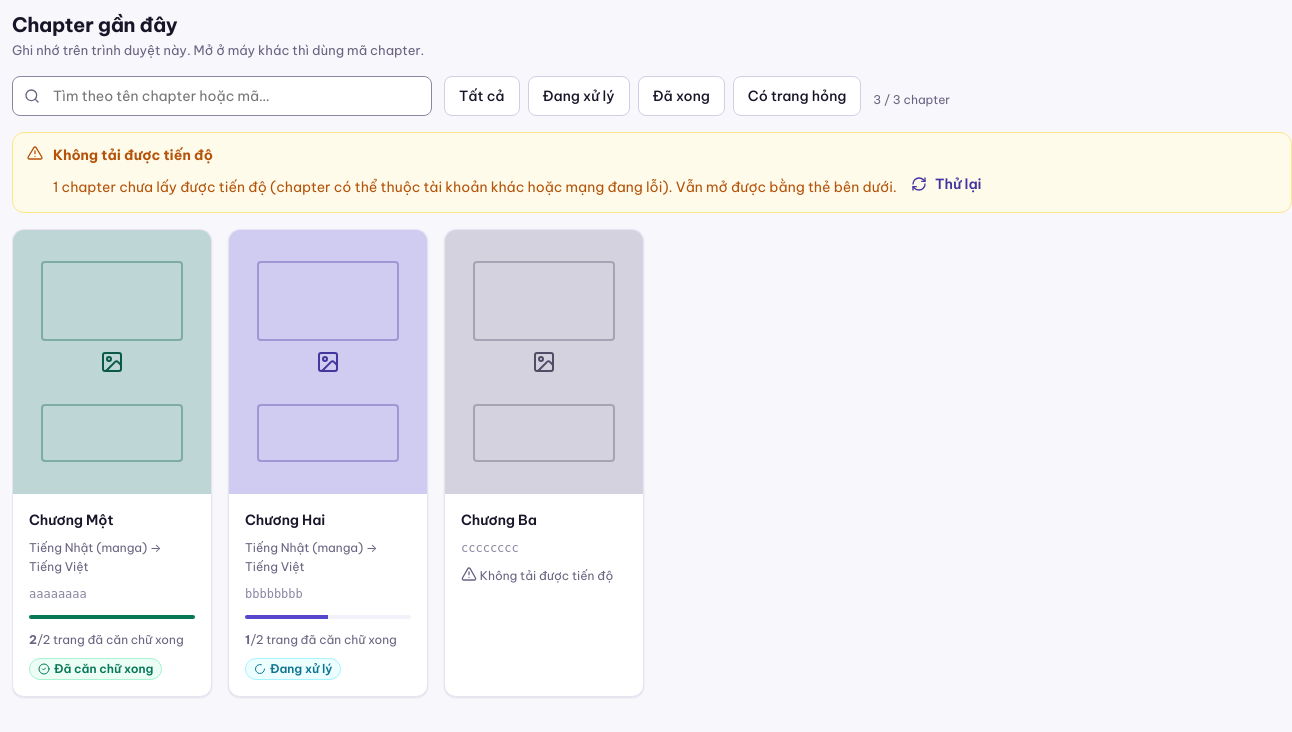
Scenario: ChapterRecentList — lưới thẻ › tìm theo tên/mã và chip lọc theo trạng thái; không khớp thì có trạng thái rỗng
This screenshot has width=1292, height=732.
Check: the text "Đã căn chữ xong" is shown, box [29,658,162,680]
Type "hai" into the search field named "Tìm chapter".
click(222, 96); type("hai")  # box [12,76,432,116]
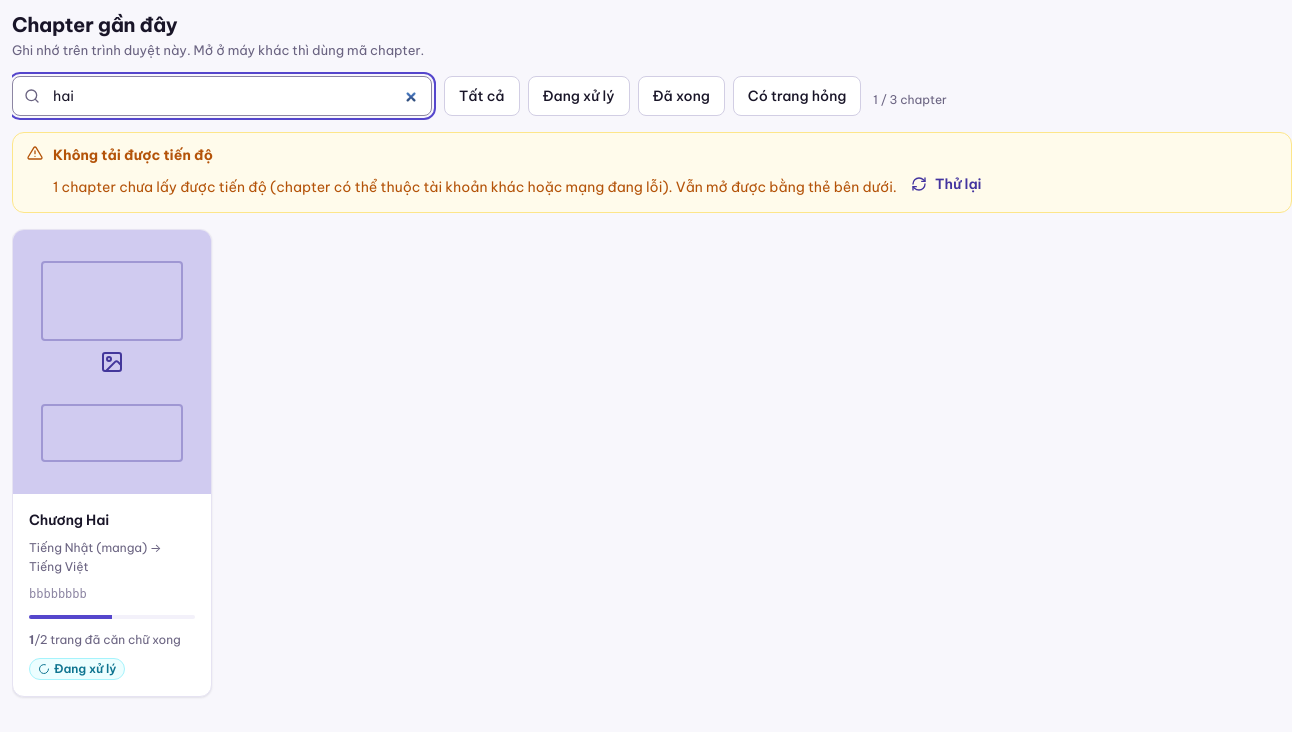
Check: the text "1 / 3 chapter" is shown, box [873,91,947,109]
Check: the link "Chương Một" is gone
Clear the search field named "Tìm chapter" at [222, 96], box [12,76,432,116]
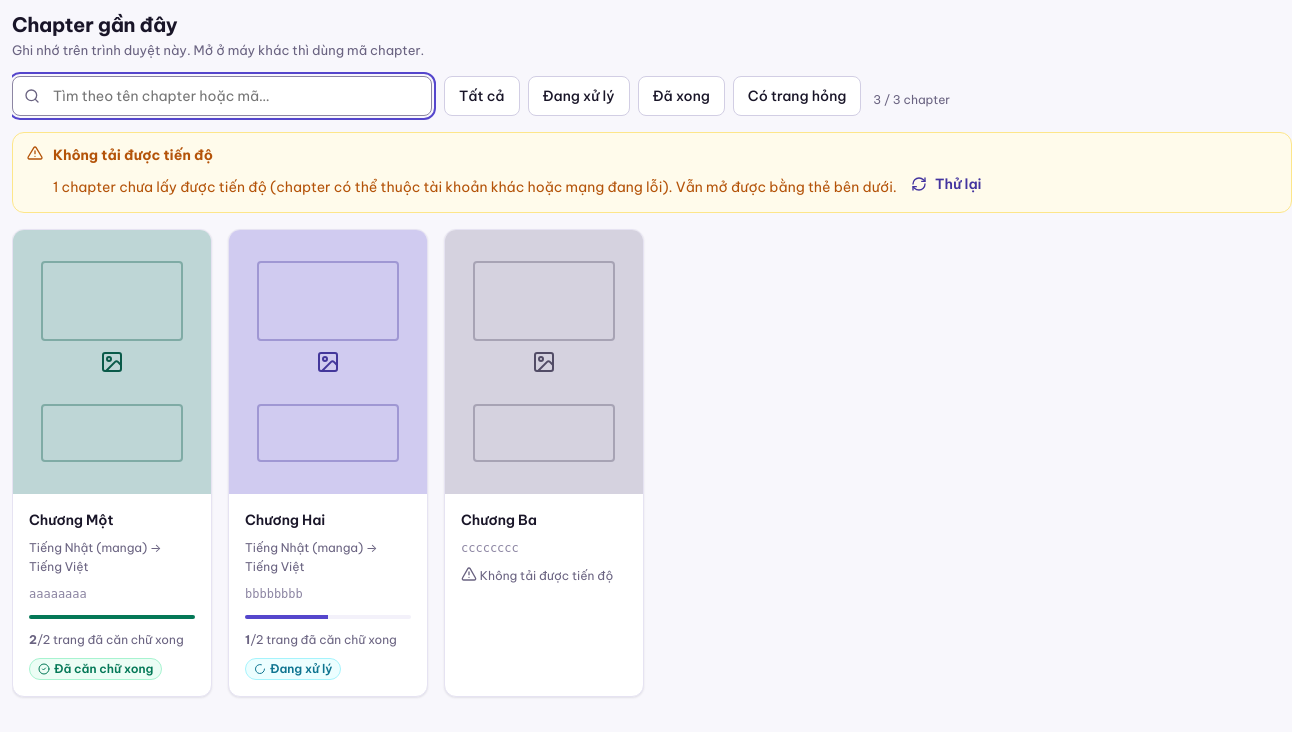
Click the button "Đã xong".
click(681, 96)  # box [638,76,725,116]
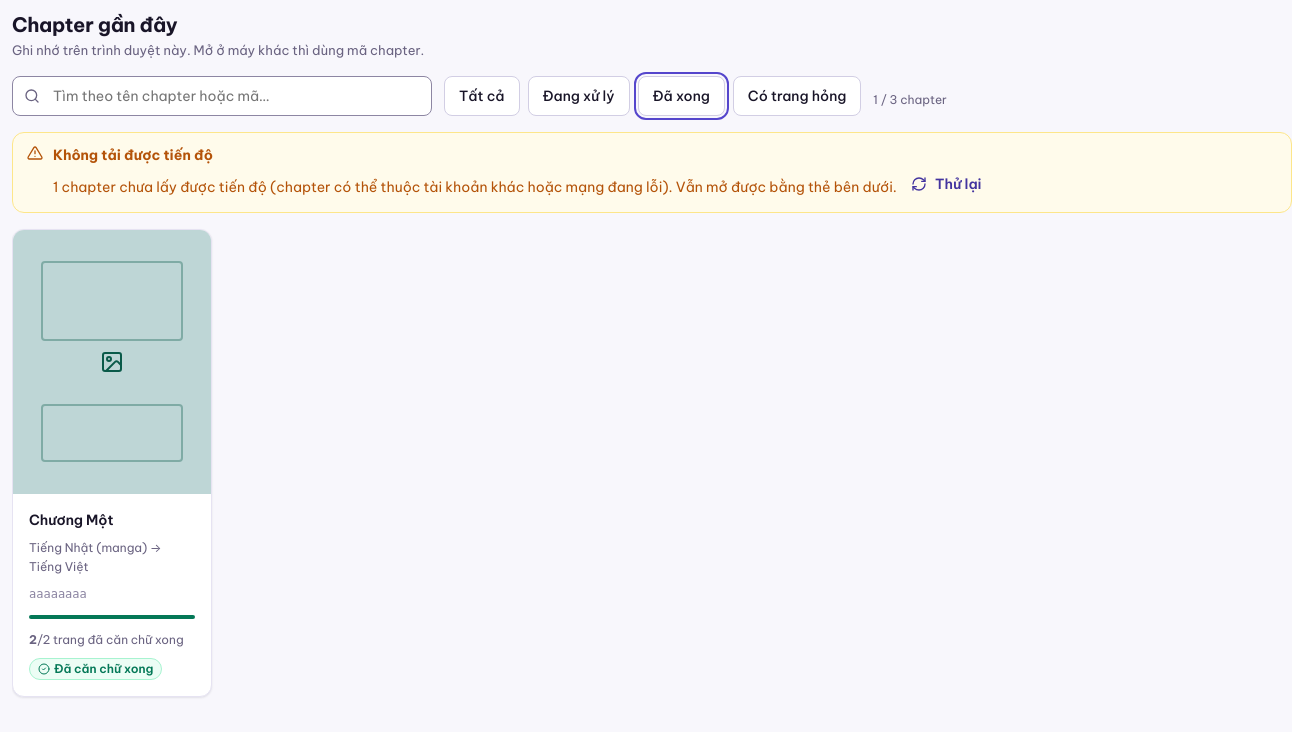
Check: the text "1 / 3 chapter" is shown, box [873,91,947,109]
Type "zzz" into the search field named "Tìm chapter".
click(222, 96); type("zzz")  # box [12,76,432,116]
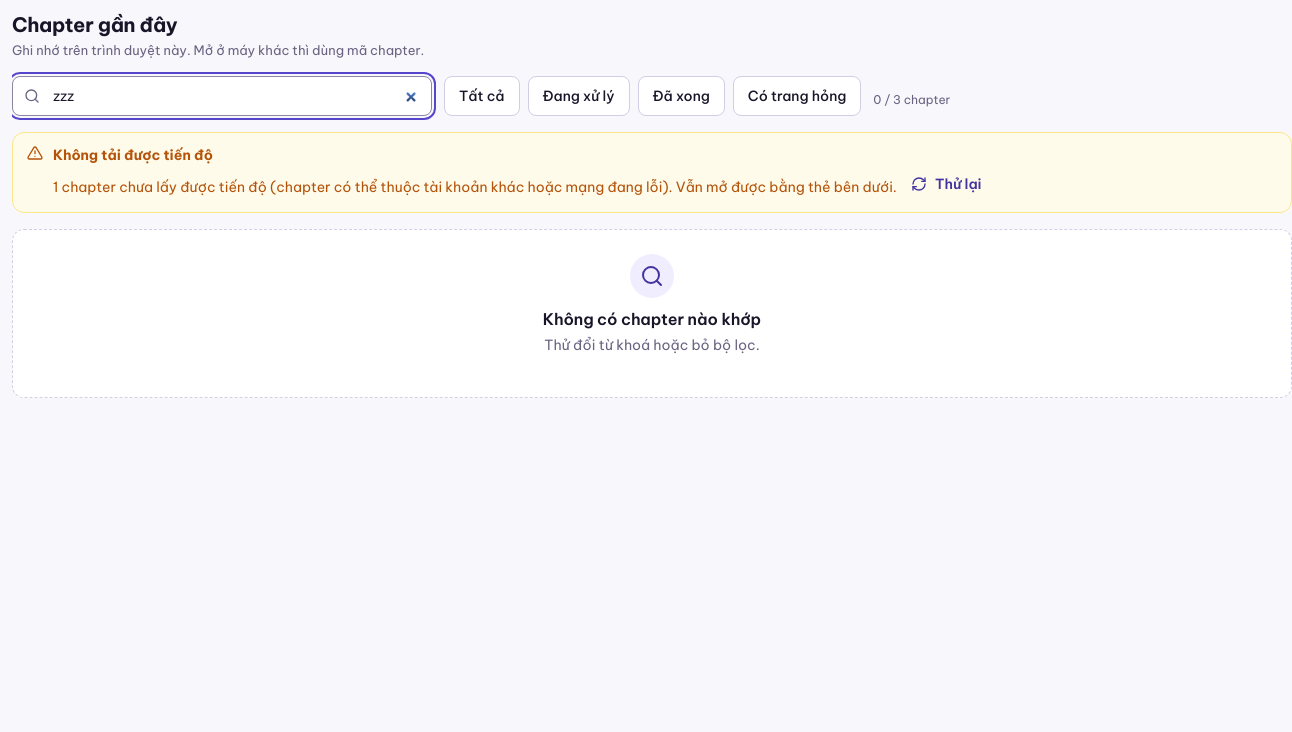
Check: the heading "Không có chapter nào khớp" is shown, box [543,309,761,329]
